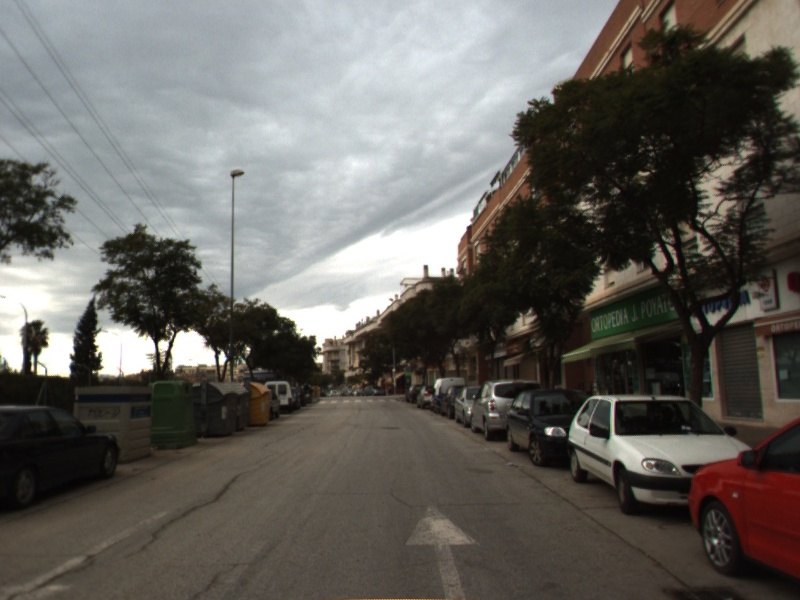STRAIGHT: (402, 500, 482, 600)
